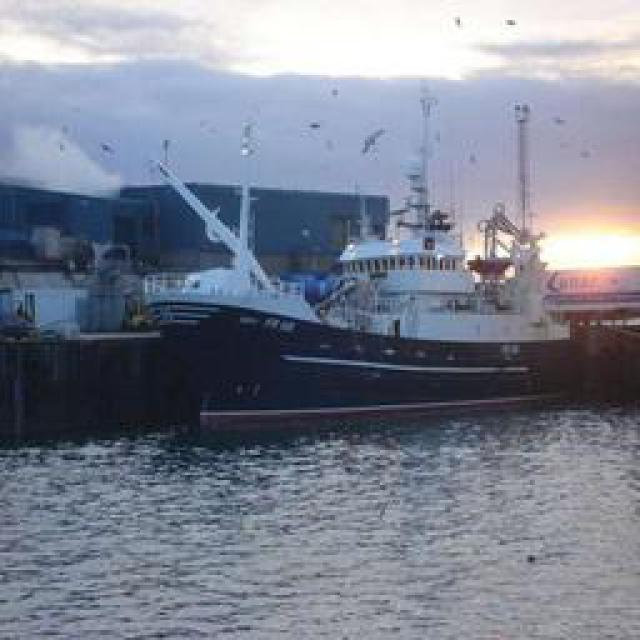Ship: (123, 98, 611, 413)
